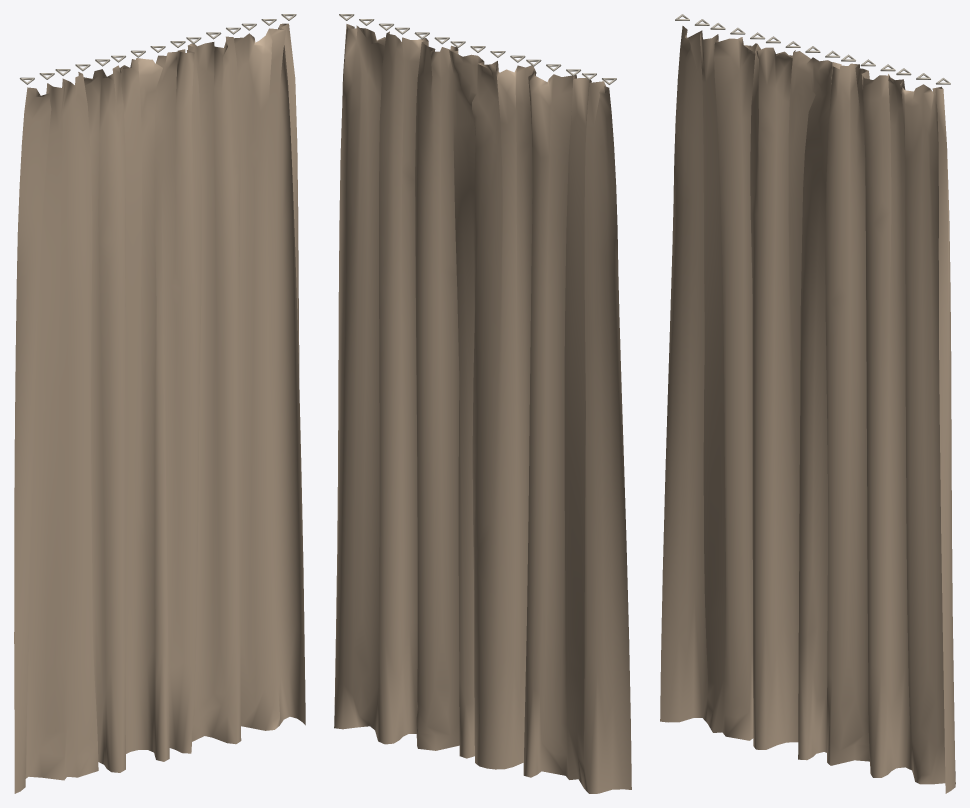
The model's file is curtain_rings_w100_g100_110_lod0.glb.
The picture shows the model from 3 angles, left to right: view 1: azimuth 30°, elevation 25°; view 2: azimuth 150°, elevation 25°; view 3: azimuth 330°, elevation 25°; orthographic projection.
Parts seen in each view (by area): view 1: curtain_rings_g100_110_lod0_fabric, curtain_rings_g100_110_lod0_rings; view 2: curtain_rings_g100_110_lod0_fabric, curtain_rings_g100_110_lod0_rings; view 3: curtain_rings_g100_110_lod0_fabric, curtain_rings_g100_110_lod0_rings.
Boxes of the visible parts, x1,y1,x2,y2 form: curtain_rings_g100_110_lod0_fabric: [14, 23, 305, 793]; curtain_rings_g100_110_lod0_rings: [19, 14, 296, 84]; curtain_rings_g100_110_lod0_fabric: [334, 24, 631, 793]; curtain_rings_g100_110_lod0_rings: [339, 14, 616, 84]; curtain_rings_g100_110_lod0_fabric: [660, 26, 955, 793]; curtain_rings_g100_110_lod0_rings: [675, 14, 950, 84].
Size of the model in its own units: 1.09 by 2.54 by 0.1313.
